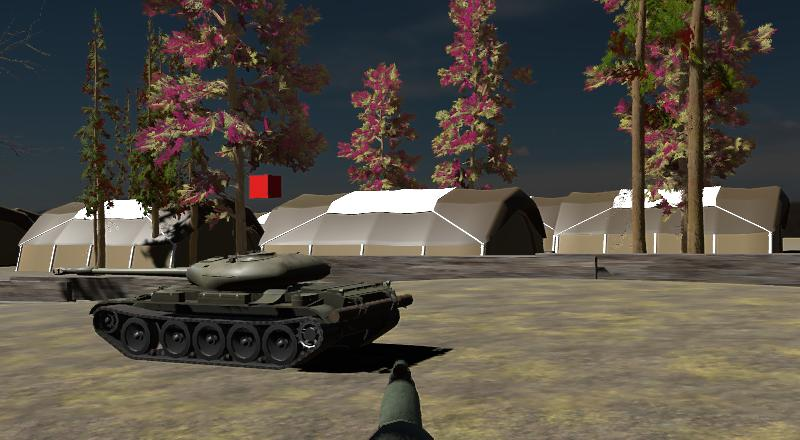Tank: (49, 245, 416, 371)
